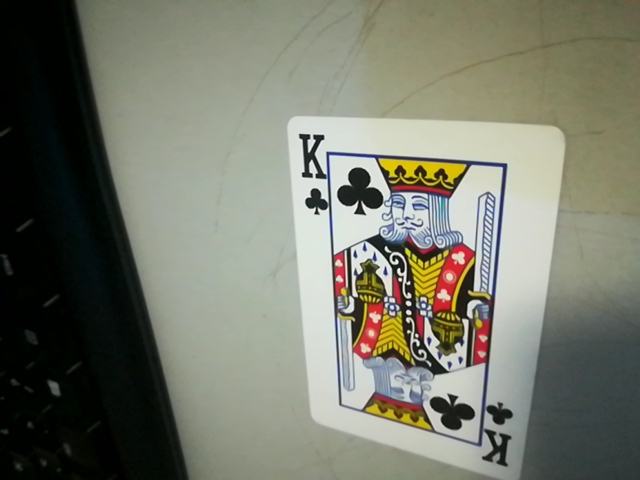mh k: (290, 121, 335, 218), (475, 399, 524, 477)
